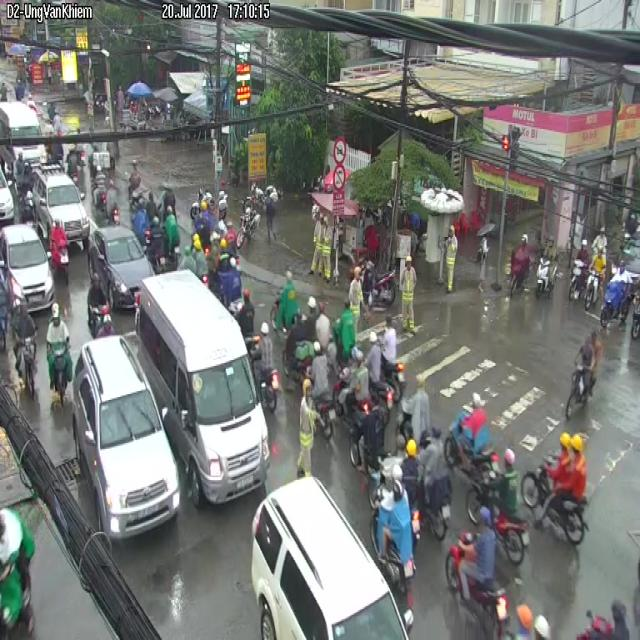car: (522, 433, 587, 544), (47, 304, 72, 403)
traffic-light: (136, 271, 269, 505), (251, 479, 412, 639), (73, 333, 179, 539), (33, 166, 91, 247), (0, 224, 53, 310)
